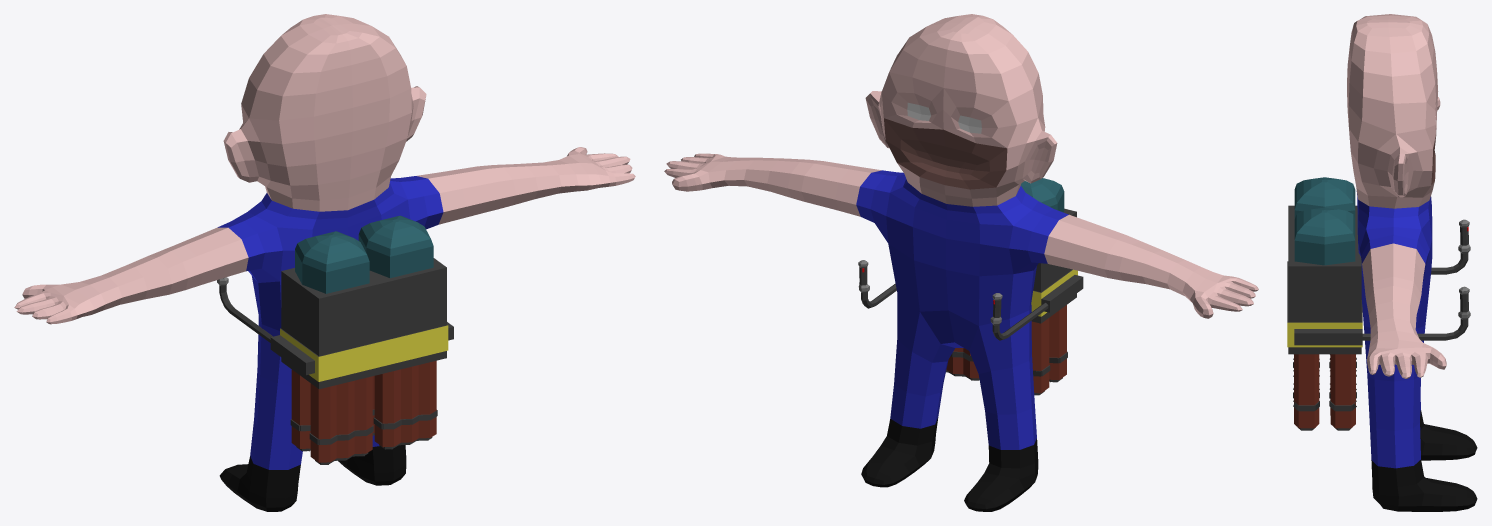
The model's file is jetplayerwithbones.fbx.
The picture shows the model from 3 angles, left to right: view 1: azimuth 30°, elevation 25°; view 2: azimuth 150°, elevation 25°; view 3: azimuth 270°, elevation 25°; orthographic projection. The views are drawn at different scales.
Visible parts, largest first — view 1: Player, JetPack; view 2: Player, JetPack; view 3: Player, JetPack.
Part boxes in pixels (x1=…): Player: x1=14, y1=14, x2=635, y2=511; JetPack: x1=217, y1=215, x2=453, y2=464; Player: x1=664, y1=14, x2=1258, y2=511; JetPack: x1=858, y1=178, x2=1083, y2=395; Player: x1=1347, y1=14, x2=1477, y2=511; JetPack: x1=1287, y1=177, x2=1470, y2=430.
Bounding box in the file's own units: 379 × 278 × 104.
